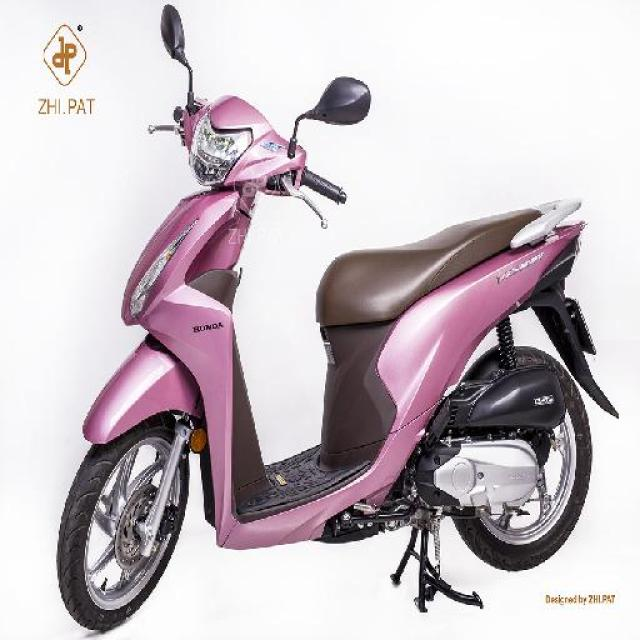All: (52, 88, 622, 637)
Head: (146, 97, 349, 226)
Tail: (512, 193, 594, 271)
